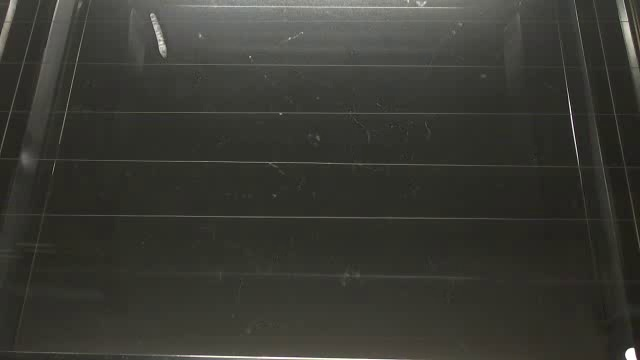Alfa: (147, 10, 169, 60)
